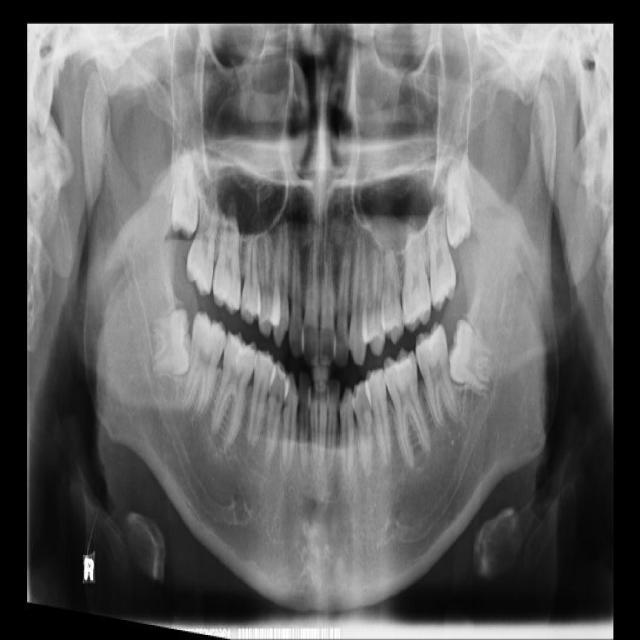3M ESPE Implant: (168, 149, 209, 239)
73: (625, 620, 633, 630)
BioHorizons Implant: (425, 189, 458, 311)
BioLife Implant: (445, 158, 471, 251)
Biomet 3i Implant: (446, 319, 497, 391)
Blue Sky Bio Implant: (411, 320, 460, 430)
Caries: (183, 169, 224, 297)
Implant: (179, 309, 230, 421)
Keystone Dental Implant: (148, 308, 195, 378)
